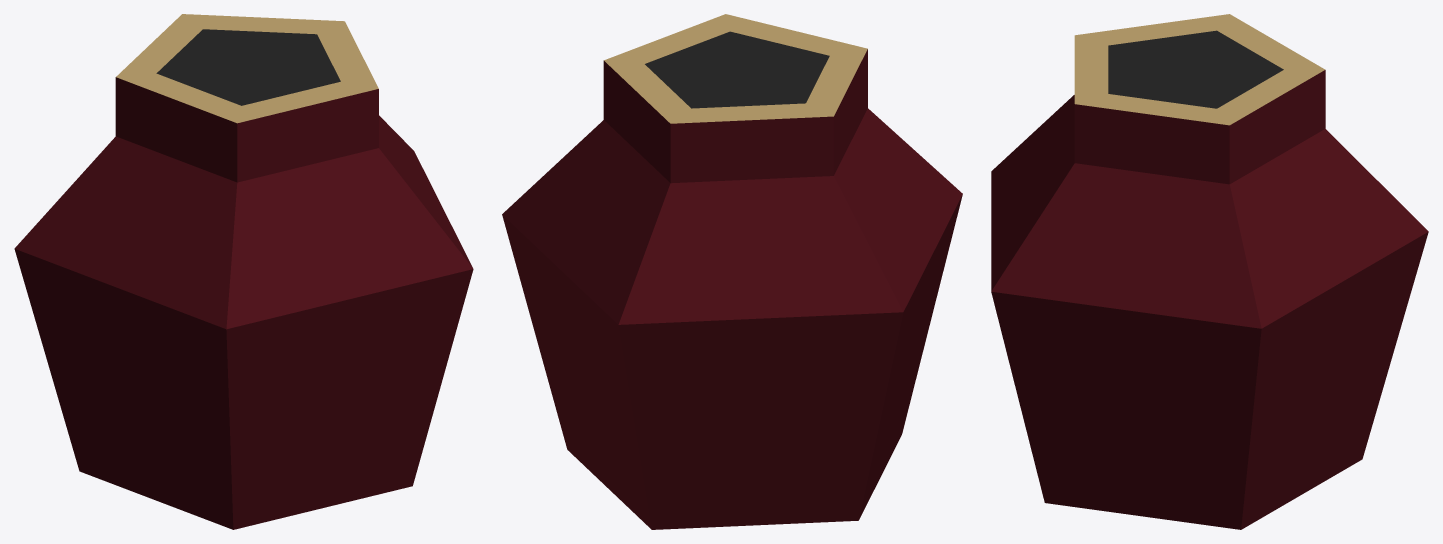
The model's file is TB_Prop_Jar_B.FBX.
3 views of the same model, side by side, from view 1: azimuth 30°, elevation 25°; view 2: azimuth 150°, elevation 25°; view 3: azimuth 270°, elevation 25° (orthographic).
Visible parts, largest first — view 1: TB_Prop_Jar_B; view 2: TB_Prop_Jar_B; view 3: TB_Prop_Jar_B.
Boxes of the visible parts, x1,y1,x2,y2 form: TB_Prop_Jar_B: (14, 14, 473, 529); TB_Prop_Jar_B: (502, 14, 962, 529); TB_Prop_Jar_B: (991, 14, 1428, 529).
Size of the model in its own units: 0.8126 by 0.7593 by 0.7728.
